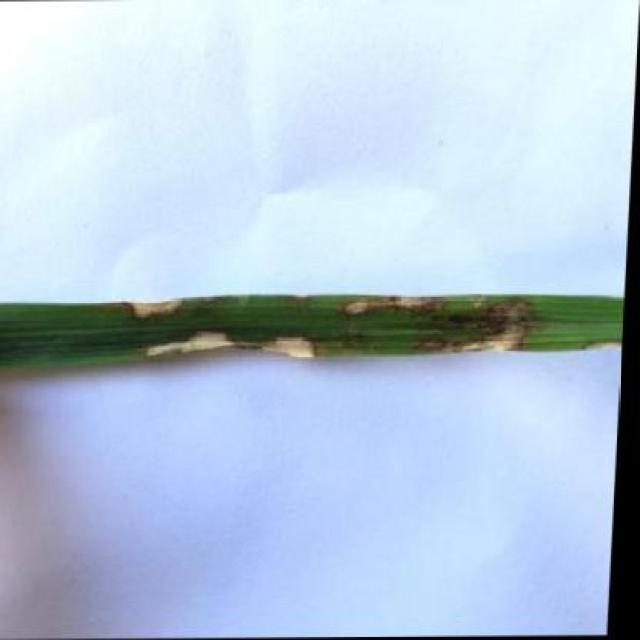Brown_Spot: (0, 274, 629, 374)
